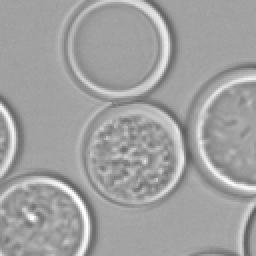picoshell: (76, 100, 186, 208), (58, 0, 174, 102), (186, 62, 254, 196), (0, 168, 94, 254), (0, 96, 20, 176), (236, 200, 254, 254), (182, 246, 236, 254)
